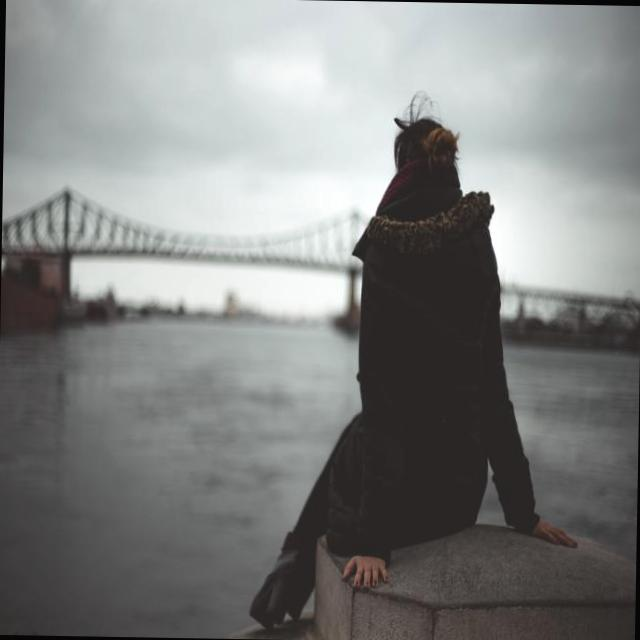person: (248, 89, 585, 636)
